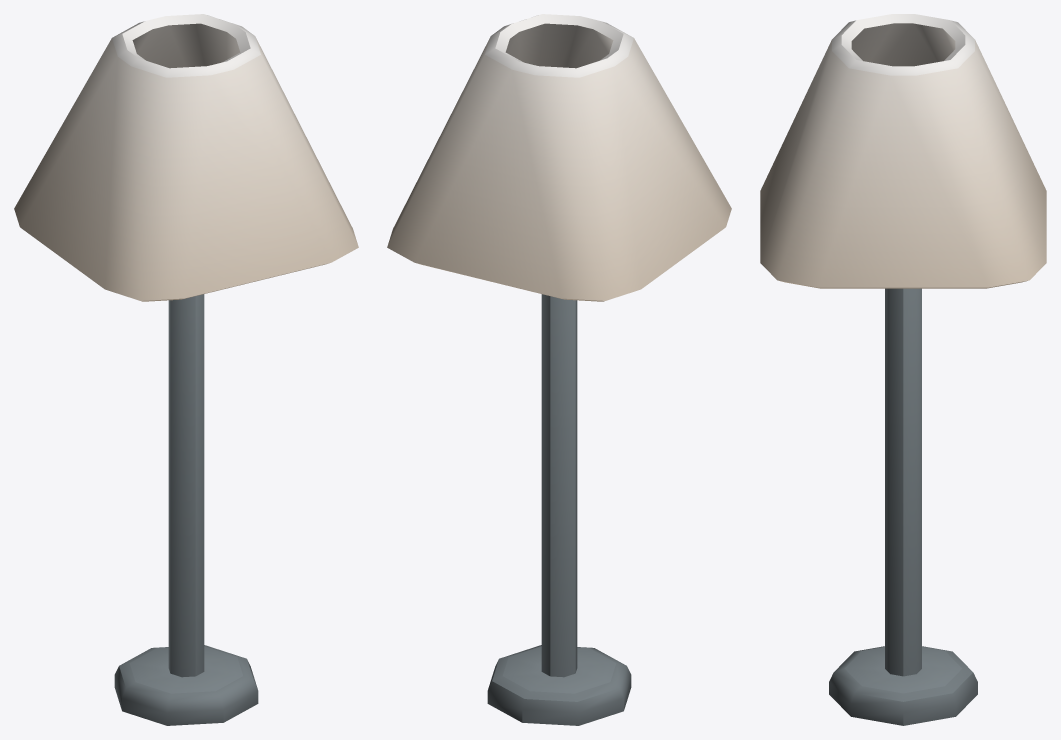
The model's file is kk_lamp_standing.glb.
3 renders of one model, left to right at view 1: azimuth 30°, elevation 25°; view 2: azimuth 150°, elevation 25°; view 3: azimuth 270°, elevation 25°, orthographic.
Visible parts, largest first — view 1: lamp_standing; view 2: lamp_standing; view 3: lamp_standing.
Part boxes in pixels (x1,y1,x2,y2): lamp_standing: (14,14,358,725); lamp_standing: (387,14,731,725); lamp_standing: (760,14,1046,725).
Size of the model in its own units: 1 by 2.52 by 1.
1 material, 1 textured.
